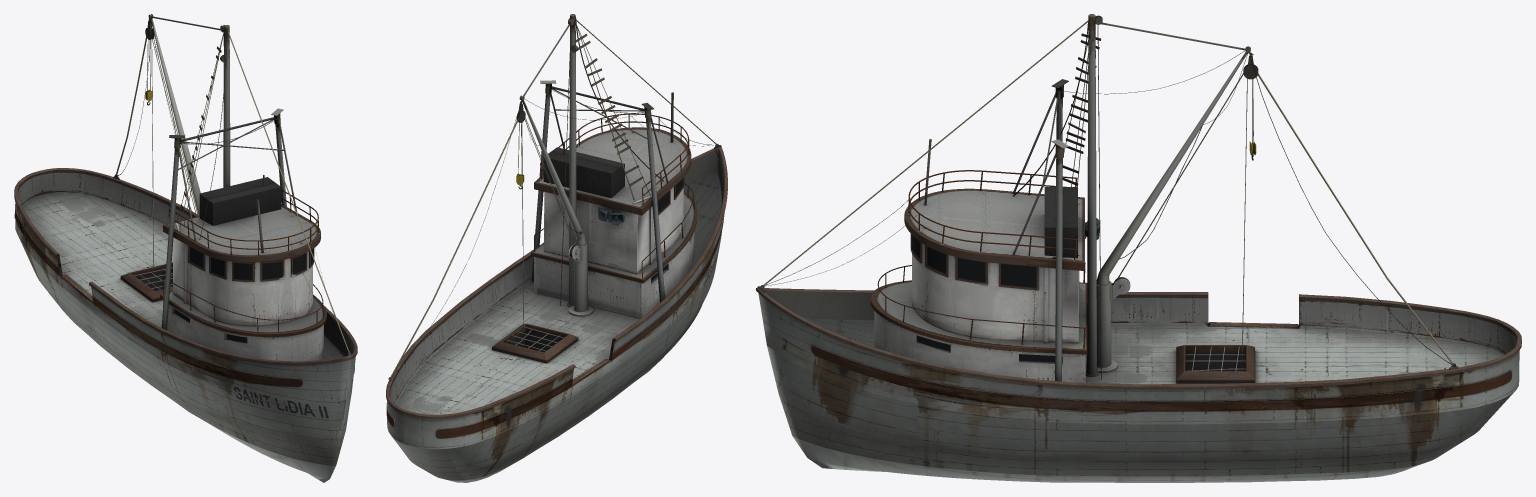
Rendered from Fishing boat.FBX.
3 renders of one model, left to right at view 1: azimuth 30°, elevation 25°; view 2: azimuth 150°, elevation 25°; view 3: azimuth 270°, elevation 25°, orthographic. The views are drawn at different scales.
Parts seen in each view (by area): view 1: smdimport; view 2: smdimport; view 3: smdimport.
Boxes of the visible parts, x1,y1,x2,y2 form: smdimport: [14, 14, 357, 482]; smdimport: [386, 14, 727, 482]; smdimport: [756, 14, 1521, 482].
Size of the model in its own units: 5.63 by 13.02 by 19.3.
1 material, 1 textured.
